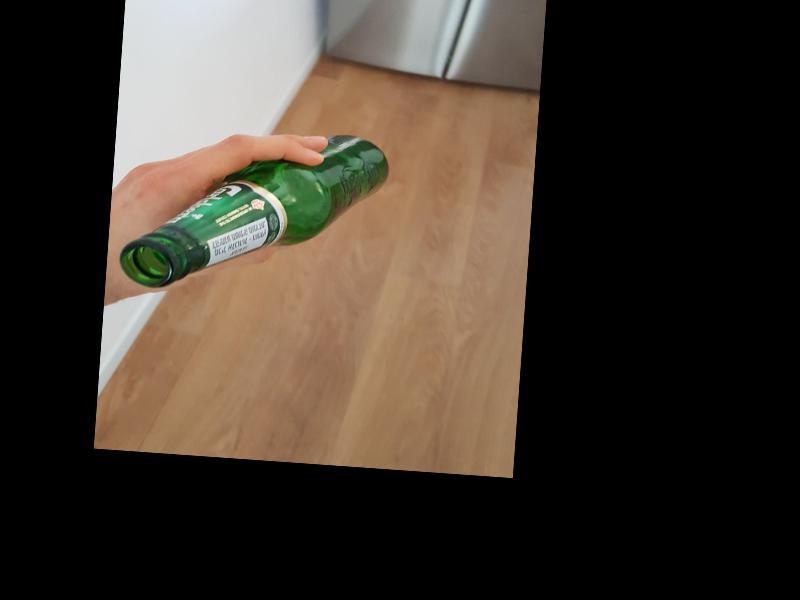Beer: (116, 120, 391, 304)
